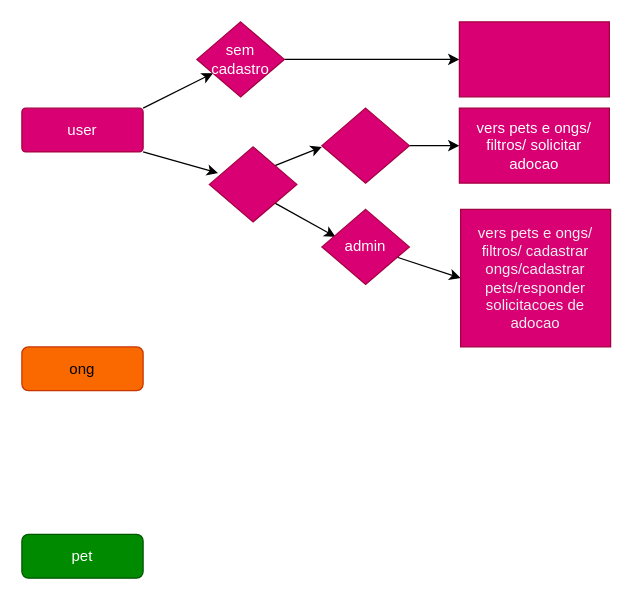
Image size: 633x600. Some labels were removed from this diagram. Each missing label, with the box of its shape:
com cadastro: (208, 146, 297, 222)
comum: (321, 107, 409, 183)
ver pets e ongs/filtros: (458, 21, 609, 97)
